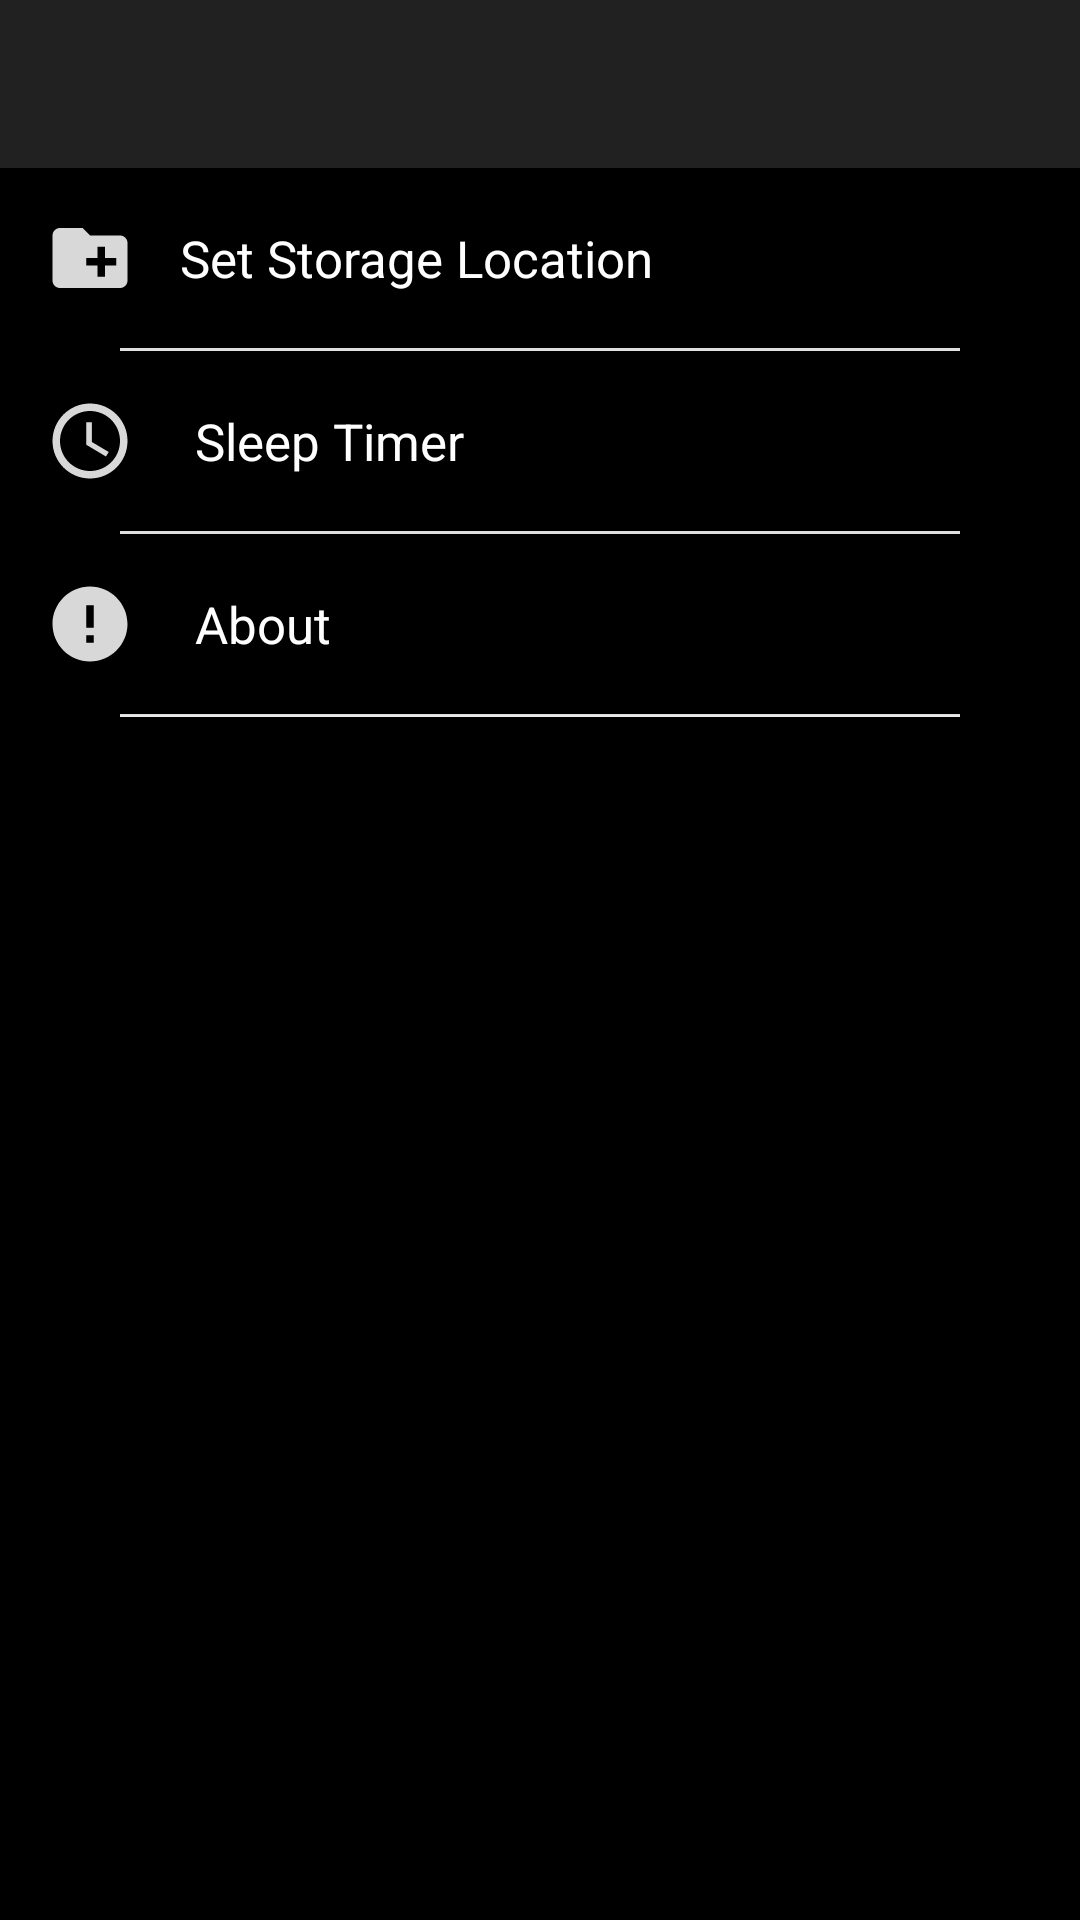

Locate icon controls on the screen. Image size 1080 x 1920, boxes as (x1, y1, x2, y2).
set storage path: (52, 228, 128, 288)
